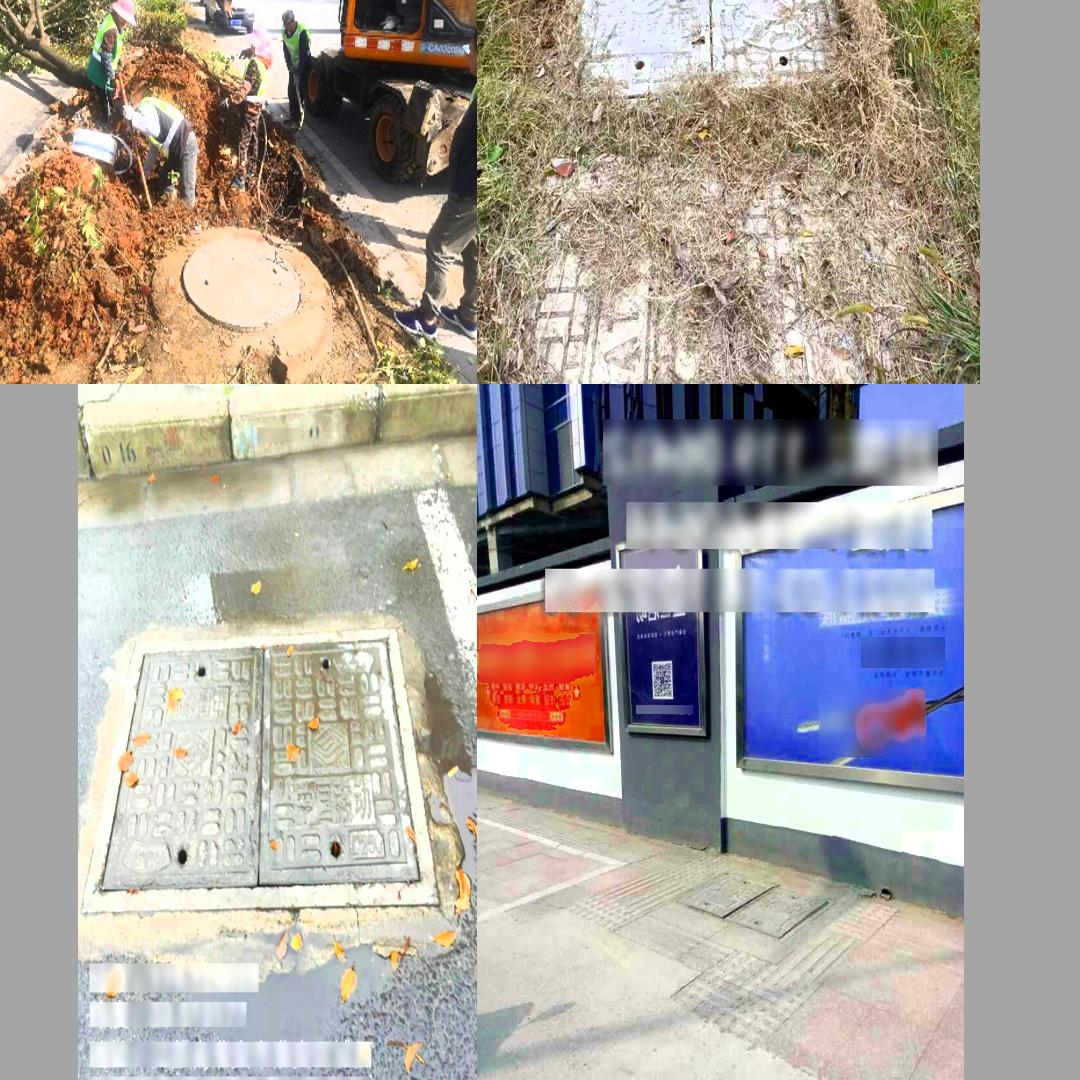good: (81, 627, 440, 911), (572, 0, 839, 92), (178, 235, 302, 334), (675, 869, 834, 938)
